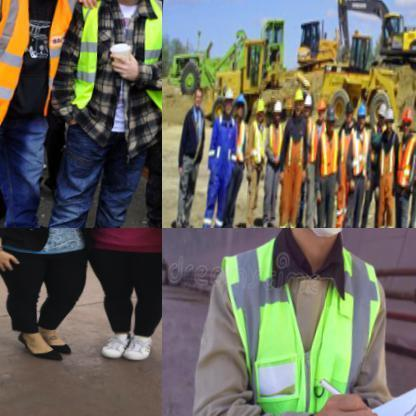vest: (209, 228, 402, 415), (70, 0, 161, 118), (0, 0, 79, 134), (206, 121, 241, 227), (315, 130, 344, 182), (348, 128, 378, 178), (396, 133, 415, 190), (265, 121, 288, 167), (249, 124, 271, 170)
